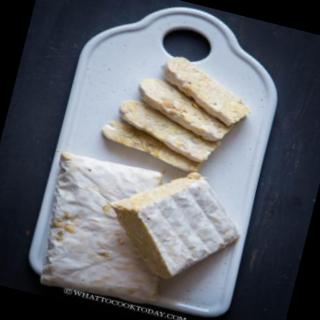Tempe: (27, 146, 188, 310), (95, 40, 265, 187)
